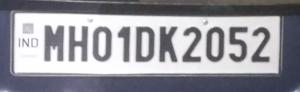0: (204, 25, 226, 63), (92, 25, 114, 62)
1: (116, 25, 133, 63)
2: (252, 24, 272, 63), (182, 25, 202, 63)
5: (228, 25, 250, 64)
D: (134, 25, 156, 63)
H: (68, 22, 89, 63)
K: (158, 24, 180, 64)
M: (40, 23, 66, 63)
